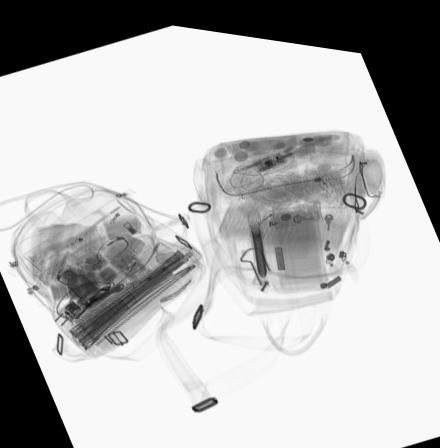Lighter: (249, 203, 276, 226)
